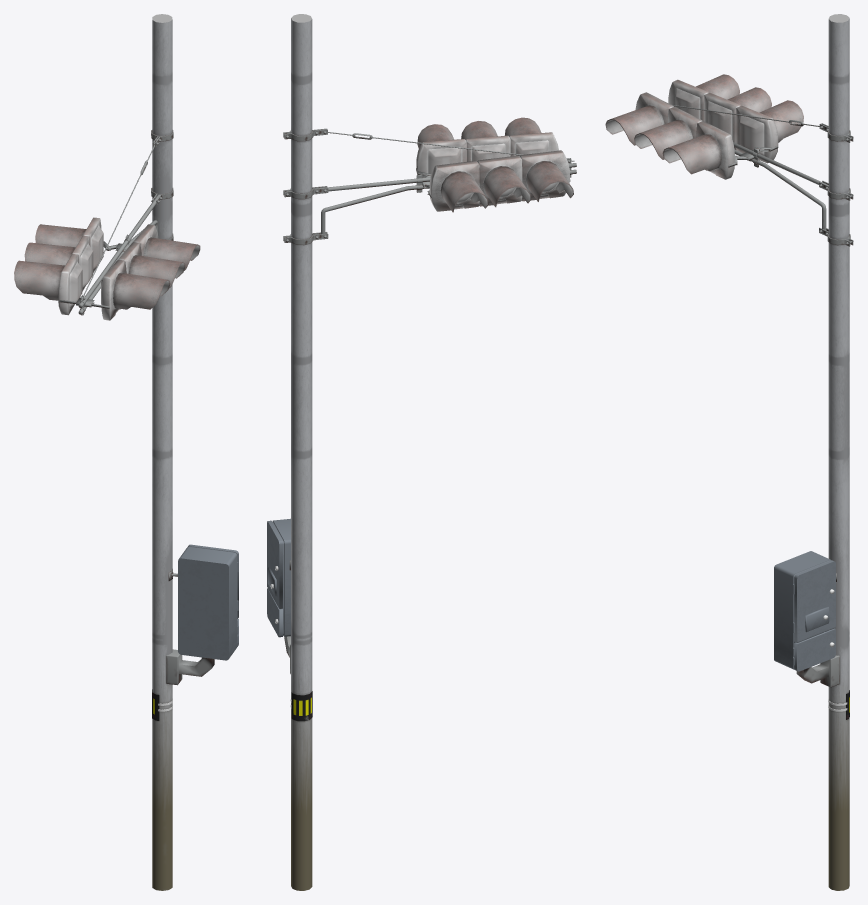
File: 信号_歩行者無し.fbx
3 views of the same model, side by side, from view 1: azimuth 30°, elevation 25°; view 2: azimuth 150°, elevation 25°; view 3: azimuth 270°, elevation 25° (orthographic).
Parts seen in each view (by area): view 1: 柱, 信号_自動車, 制御器; view 2: 柱, 信号_自動車, 制御器; view 3: 柱, 信号_自動車, 制御器.
Part boxes in pixels (bbox=[...]): 柱: bbox=[152, 14, 172, 890]; 信号_自動車: bbox=[14, 130, 200, 320]; 制御器: bbox=[166, 544, 238, 685]; 柱: bbox=[291, 14, 312, 890]; 信号_自動車: bbox=[283, 117, 576, 245]; 制御器: bbox=[267, 518, 290, 674]; 柱: bbox=[828, 14, 849, 890]; 信号_自動車: bbox=[605, 74, 853, 246]; 制御器: bbox=[774, 551, 839, 687].
Bounding box in the file's own units: 288 × 900 × 233.
